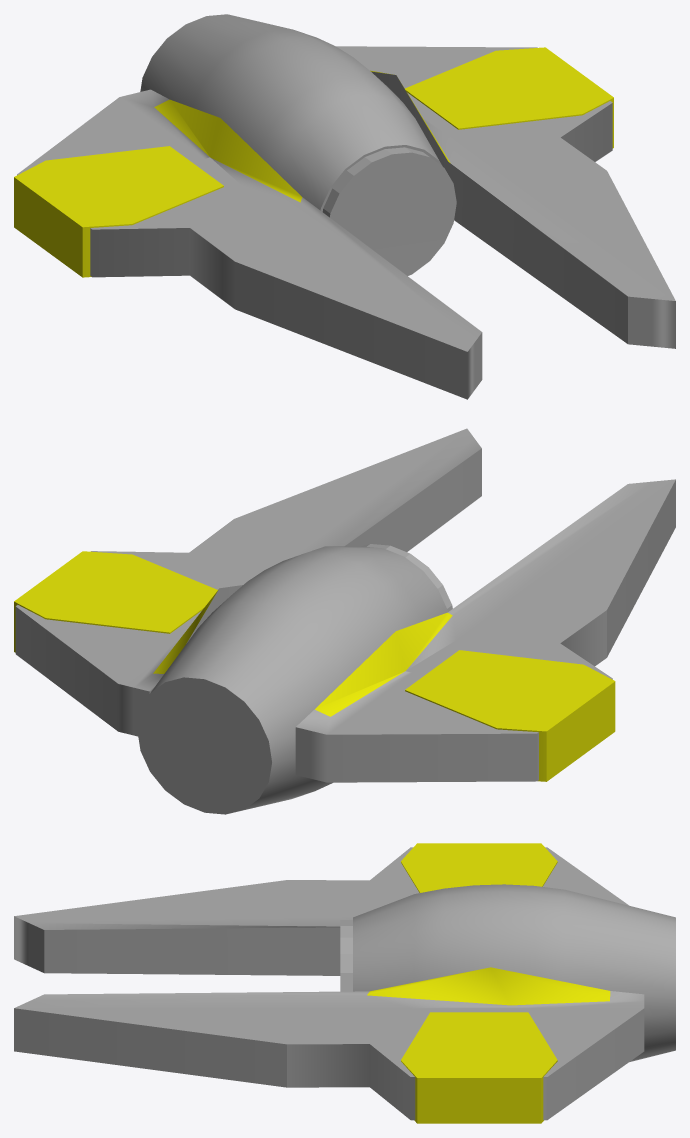
File: hune.fbx
The picture shows the model from 3 angles, top to bottom: view 1: azimuth 30°, elevation 25°; view 2: azimuth 150°, elevation 25°; view 3: azimuth 270°, elevation 25°; orthographic projection. The views are drawn at different scales.
Parts seen in each view (by area): view 1: polySurface4, polySurface3, polySurface5, polySurface2, polySurface1; view 2: polySurface4, polySurface3, polySurface5, polySurface2, polySurface1; view 3: polySurface5, polySurface3, polySurface4, polySurface1, polySurface2.
Boxes of the visible parts, x1,y1,x2,y2 form: polySurface4: (17,89,482,399); polySurface3: (140,14,456,275); polySurface5: (336,46,675,348); polySurface2: (14,146,223,277); polySurface1: (405,47,613,148); polySurface4: (295,479,675,782); polySurface3: (137,544,452,814); polySurface5: (15,428,481,736); polySurface2: (405,650,615,781); polySurface1: (14,551,217,652); polySurface5: (14,967,644,1120); polySurface3: (340,884,675,1061); polySurface4: (14,847,628,975); polySurface1: (401,1012,557,1123); polySurface2: (401,843,557,892).
Bounding box in the file's own units: 8.18 × 2.99 × 9.74.
